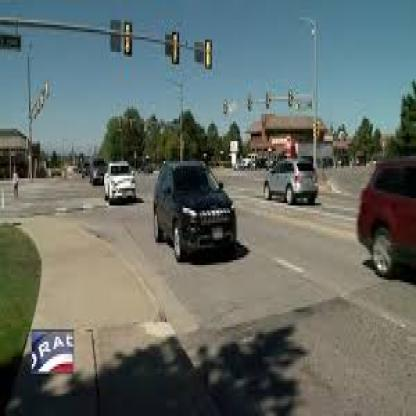car: (345, 122, 416, 281), (146, 154, 240, 274), (256, 158, 328, 216), (99, 154, 142, 224)
